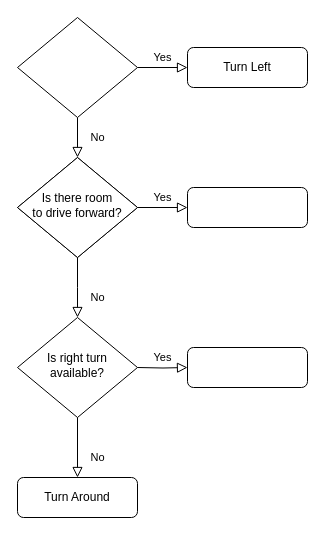
The diagram is 325 pixels wide and 535 high, and some of its shapes have lost their labels. The shapes that lost their labels are listed below. From the top down, each one's centre as x and y in pixels, then its label:
At (77,67): "Is left turn avaliable?".
At (247,207): "Drive Forward with Auto C entring".
At (247,367): "Turn Right".
